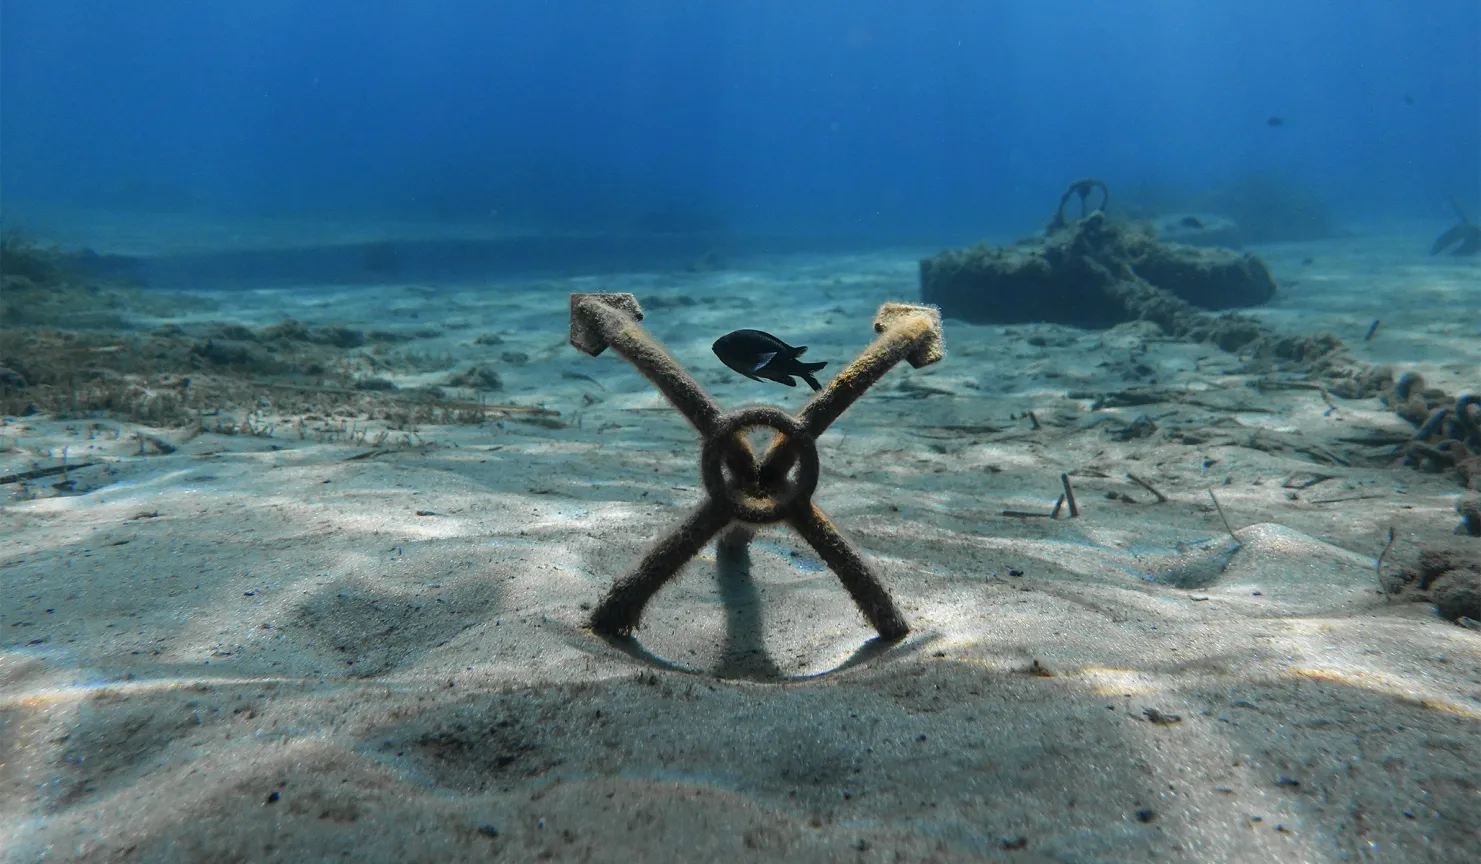Metal: (561, 277, 950, 658), (925, 176, 1289, 328), (711, 319, 829, 394), (1039, 467, 1090, 523)
